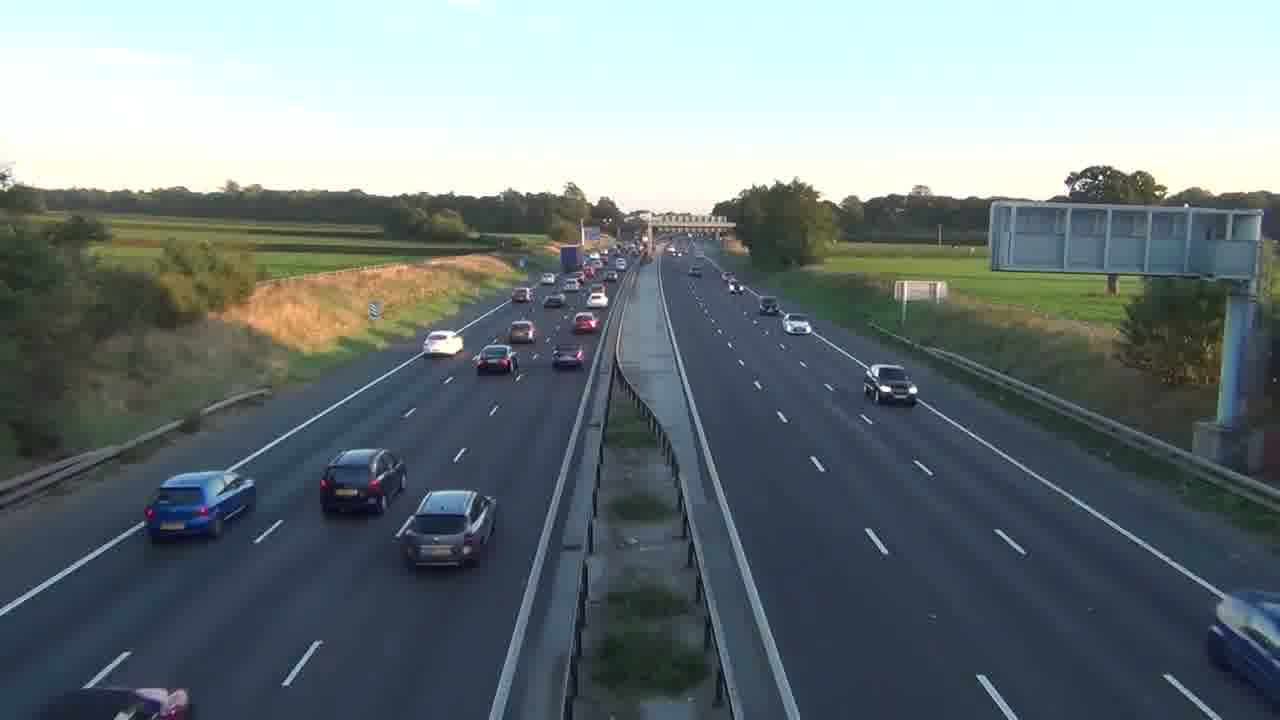car: (1205, 589, 1279, 709), (393, 488, 498, 569), (143, 470, 256, 544), (319, 447, 408, 516), (863, 363, 919, 406), (473, 343, 515, 374), (552, 345, 586, 371), (508, 319, 537, 344), (573, 312, 598, 334)
truck: (143, 470, 256, 544)
